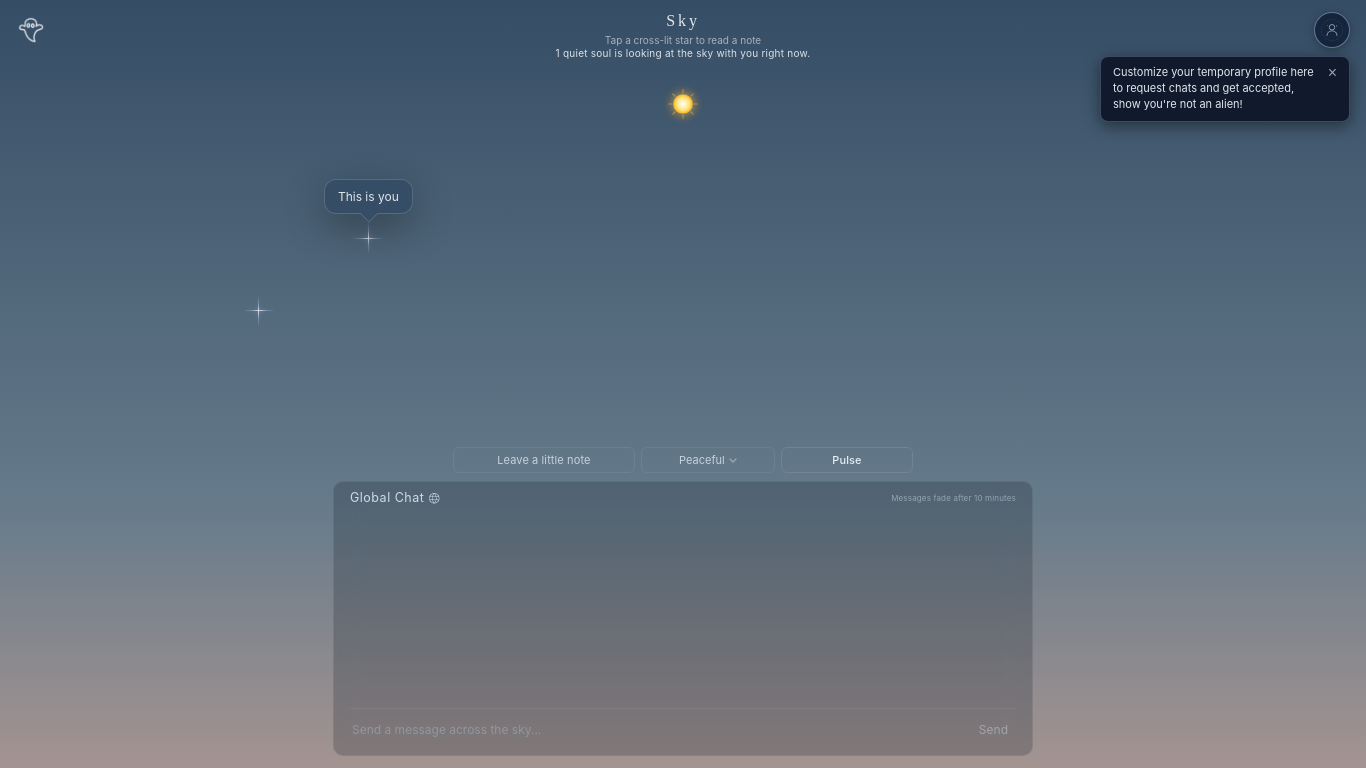
Scenario: Sky Temporary Profile & Mobile Layout Integration › star tap modal displays 48x48 avatar frame, username, age, gender, and status line
This screenshot has width=1366, height=768.
Tap visitor star
Click the button named "Quiet soul 2". click: (259, 311)
box: [237, 289, 281, 333]
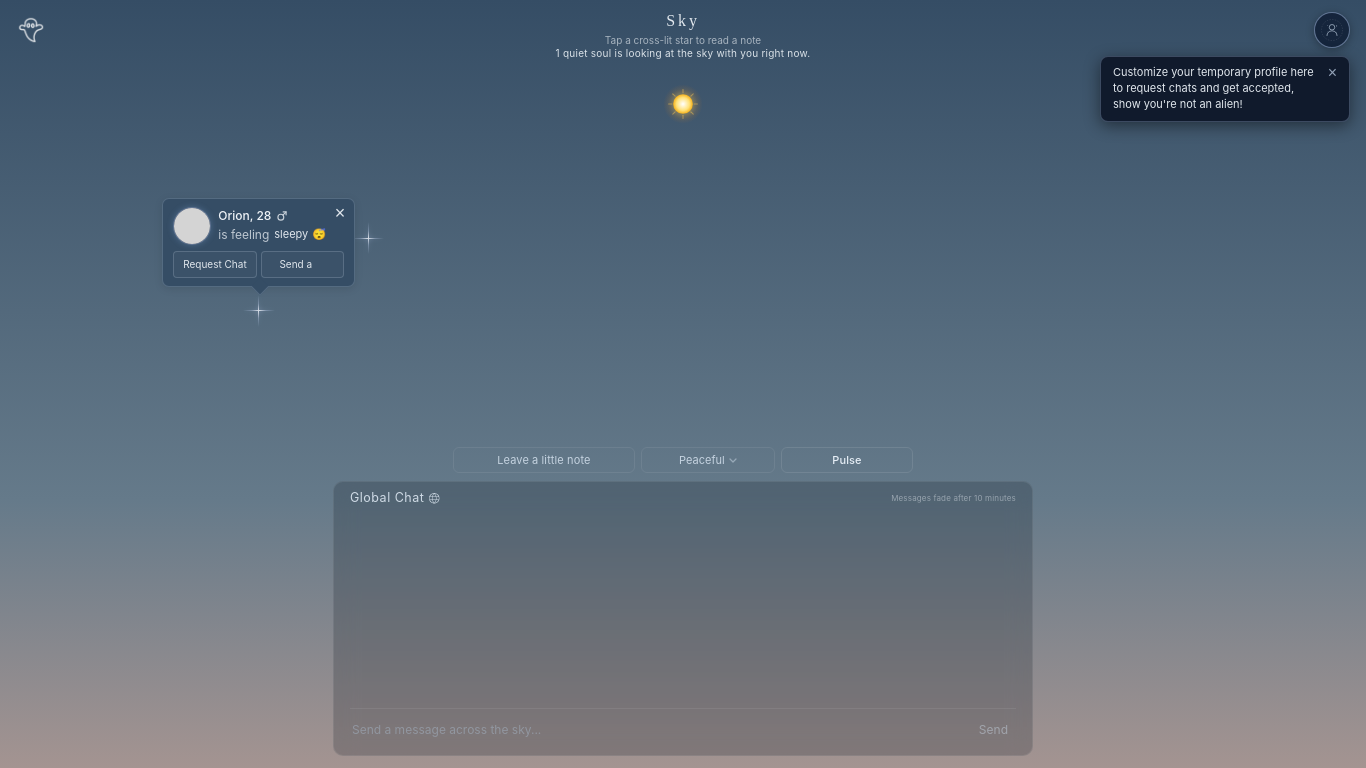
Result: the dialog named "A quiet note" shows "Orion, 28" at [162, 198, 355, 287]
Result: the icon next to ", 28" is shown at [275, 209, 289, 223]
Result: the dialog named "A quiet note" shows "is feeling sleepy" at [162, 198, 355, 287]
Tap own star
Click the button named "Your star". click: (368, 238)
box: [346, 216, 390, 260]
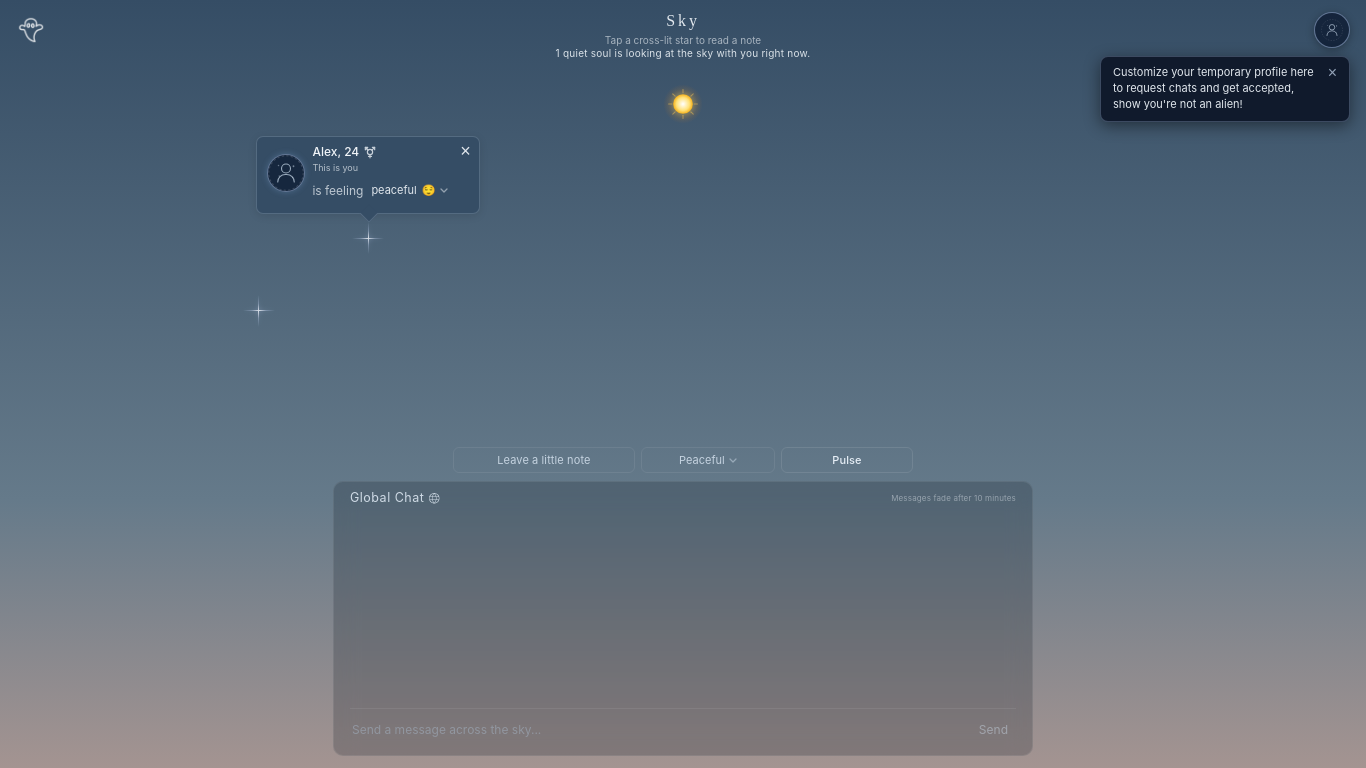
Result: the icon next to "Alex, 24" is shown at [363, 145, 377, 159]
Result: the dialog named "Your sky note" is shown at [256, 136, 480, 214]
Result: the dialog named "Your sky note" shows "Alex, 24" at [312, 144, 359, 159]
